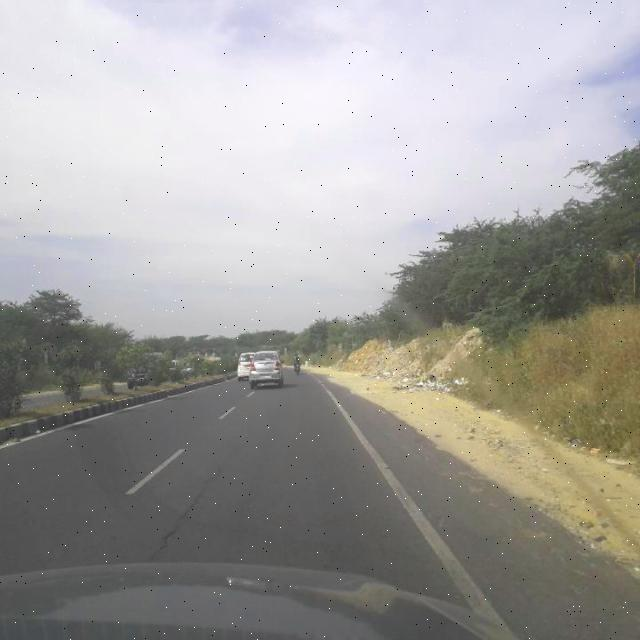D00: (146, 457, 232, 561)
